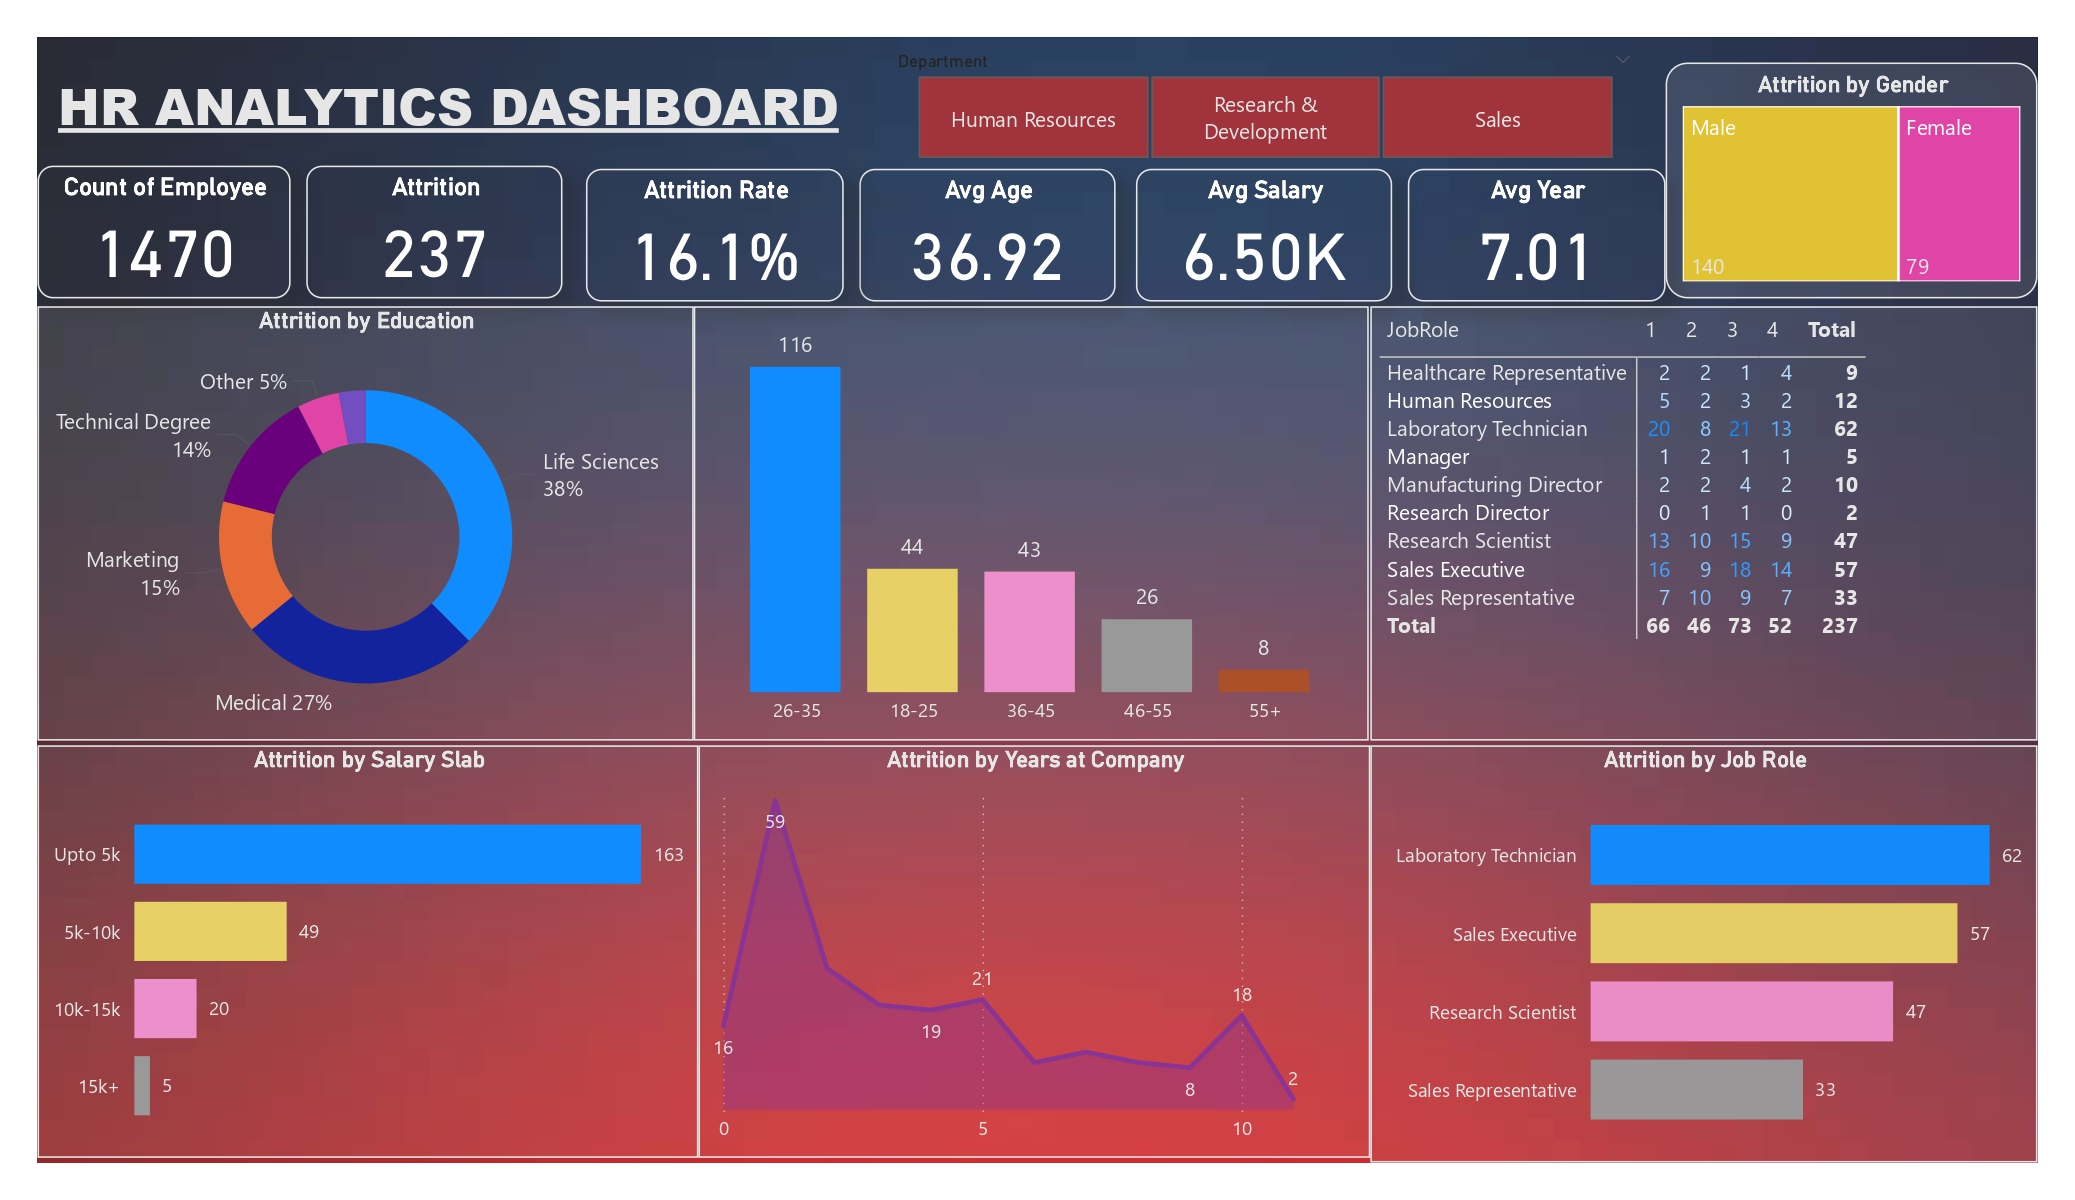

Layout of this report page (visuals, bound fields, positions):
{"tool":"powerbi","page":{"name":"Page 1","canvas":[1280,720],"ordinal":0},"visuals":[{"type":"card","title":"Count of Employee","fields":{"Values":["CountNonNull(HR_Analytics.EmpID)"]},"box":[0,82.3,161.9,85.1],"z":0},{"type":"card","title":"Attrition","fields":{"Values":["Sum(HR_Analytics.Attrition Count)"]},"box":[171.5,82.3,164.7,85.1],"z":1000},{"type":"card","title":"Avg Age","fields":{"Values":["Avg(HR_Analytics.Age)"]},"box":[525.6,83.7,164.7,85.1],"z":2000},{"type":"card","title":"Attrition Rate","fields":{"Values":["HR_Analytics.Attrition Rate"]},"box":[351.3,83.7,164.7,85.1],"z":3000},{"type":"card","title":"Avg Salary","fields":{"Values":["Avg(HR_Analytics.MonthlyIncome)"]},"box":[702.6,83.7,164.7,85.1],"z":4000},{"type":"card","title":"Avg Year","fields":{"Values":["Avg(HR_Analytics.YearsAtCompany)"]},"box":[876.8,83.7,164.7,85.1],"z":5000},{"type":"donutChart","title":"Attrition by Education","fields":{"Category":["HR_Analytics.EducationField"],"Y":["Sum(HR_Analytics.Attrition Count)"]},"box":[0,171.7,420,278.3],"z":6000},{"type":"columnChart","title":"Attrition by Age","fields":{"Category":["HR_Analytics.AgeGroup"],"Y":["Sum(HR_Analytics.Attrition Count)"]},"box":[420,171.7,431.7,278.3],"z":7000},{"type":"pivotTable","fields":{"Rows":["HR_Analytics.JobRole"],"Columns":["HR_Analytics.JobSatisfaction"],"Values":["Sum(HR_Analytics.Attrition Count)"]},"box":[853.3,171.7,426.7,278.3],"z":8000},{"type":"barChart","title":"Attrition by Salary Slab","fields":{"Category":["HR_Analytics.SalarySlab"],"Y":["Sum(HR_Analytics.Attrition Count)"]},"box":[0,453.3,423.3,263.3],"z":9000},{"type":"barChart","title":"Attrition by Job Role","fields":{"Category":["HR_Analytics.JobRole"],"Y":["Sum(HR_Analytics.Attrition Count)"]},"box":[853.3,453.3,426.7,266.7],"z":10000},{"type":"areaChart","title":"Attrition by Years at Company","fields":{"Category":["HR_Analytics.YearsAtCompany"],"Y":["Sum(HR_Analytics.Attrition Count)"]},"box":[423.3,453.3,430,263.3],"z":11000},{"type":"treemap","title":"Attrition by Gender","fields":{"Group":["HR_Analytics.Gender"],"Values":["Sum(HR_Analytics.Attrition Count)"]},"box":[1041.5,16.5,238.8,150.9],"z":12000},{"type":"slicer","fields":{"Values":["HR_Analytics.Department"]},"box":[537.9,4.1,494,79.6],"z":13000},{"type":"textbox","box":[0,16.5,525.6,67.2],"z":14000}]}

Visuals, with their boxes in screenshot pixels (x1, y1, x2, y2):
"Count of Employee" card: {"left": 38, "top": 166, "right": 290, "bottom": 299}
"Attrition" card: {"left": 305, "top": 166, "right": 563, "bottom": 299}
"Avg Age" card: {"left": 859, "top": 168, "right": 1116, "bottom": 301}
"Attrition Rate" card: {"left": 586, "top": 168, "right": 844, "bottom": 301}
"Avg Salary" card: {"left": 1135, "top": 168, "right": 1393, "bottom": 301}
"Avg Year" card: {"left": 1408, "top": 168, "right": 1665, "bottom": 301}
"Attrition by Education" donutChart: {"left": 38, "top": 306, "right": 694, "bottom": 741}
"Attrition by Age" columnChart: {"left": 694, "top": 306, "right": 1368, "bottom": 741}
pivotTable - HR_Analytics.JobRole x HR_Analytics.JobSatisfaction: {"left": 1371, "top": 306, "right": 2038, "bottom": 741}
"Attrition by Salary Slab" barChart: {"left": 38, "top": 746, "right": 699, "bottom": 1157}
"Attrition by Job Role" barChart: {"left": 1371, "top": 746, "right": 2038, "bottom": 1162}
"Attrition by Years at Company" areaChart: {"left": 699, "top": 746, "right": 1371, "bottom": 1157}
"Attrition by Gender" treemap: {"left": 1665, "top": 63, "right": 2038, "bottom": 299}
slicer - HR_Analytics.Department: {"left": 878, "top": 44, "right": 1650, "bottom": 168}
textbox: {"left": 38, "top": 63, "right": 859, "bottom": 168}
